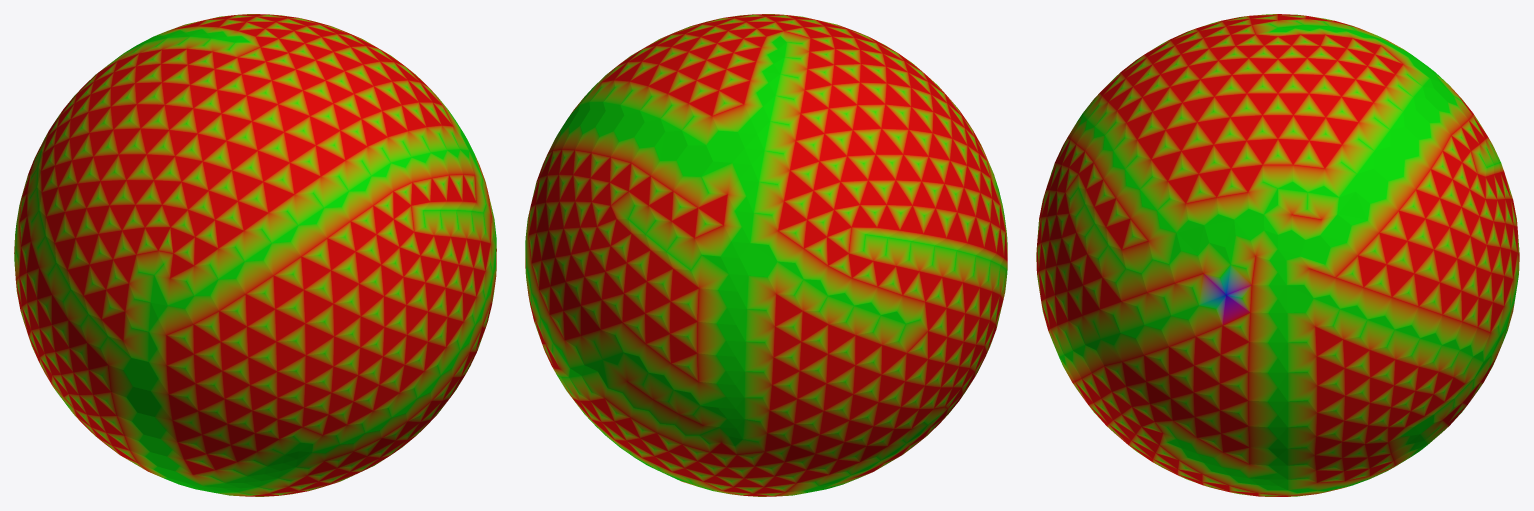
File: after_cleaning_reconquest_9.obj
The picture shows the model from 3 angles, left to right: view 1: azimuth 30°, elevation 25°; view 2: azimuth 150°, elevation 25°; view 3: azimuth 270°, elevation 25°; orthographic projection.
Bounding box in the file's own units: 2 × 2 × 2.
